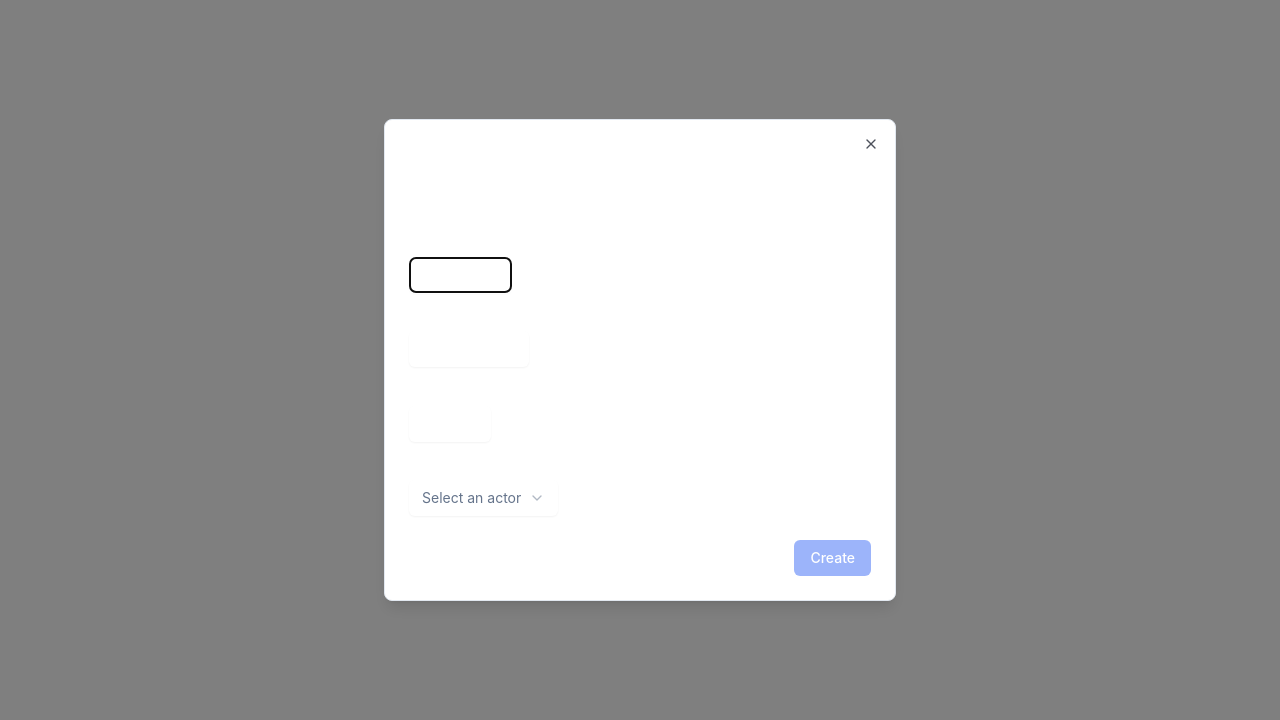
AddActorModal › shows an already-added actor as a disabled but visible option
Click the dropdown labelled "actor" at (484, 498), box [409,480,558,516]
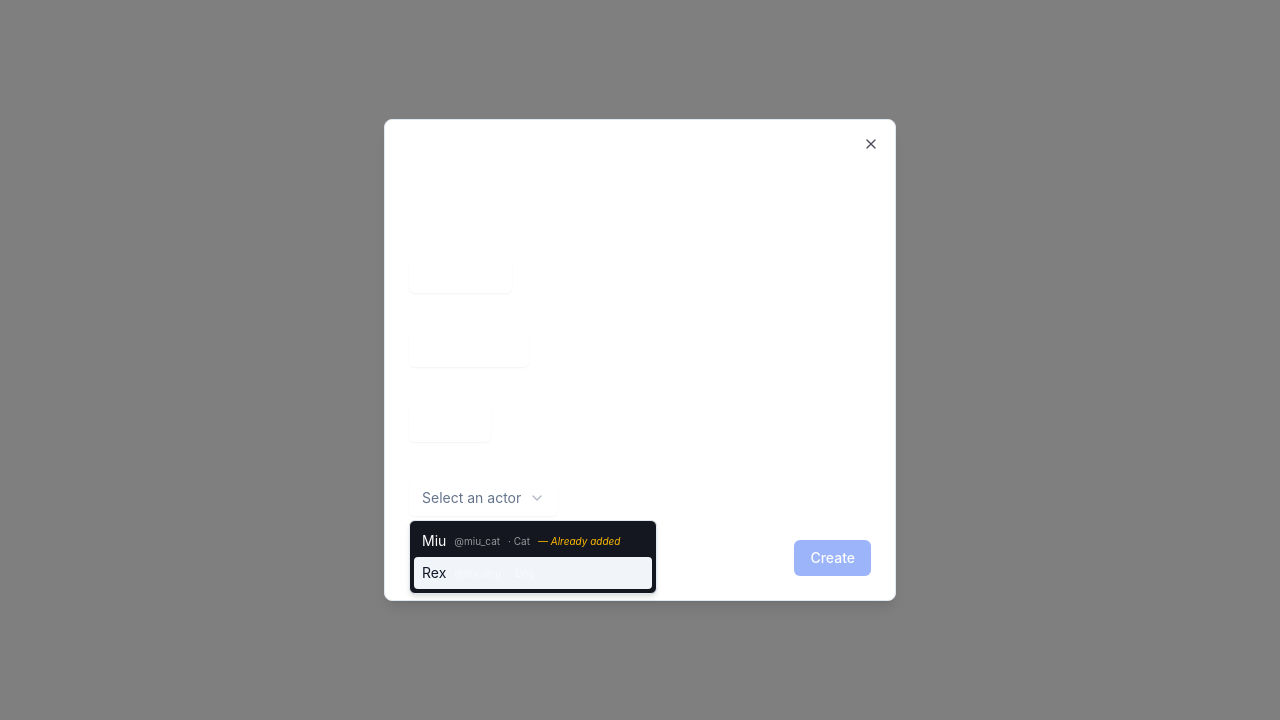
Expected: the option "Miu @miu_cat · Cat — Already added" is shown, [422,532,620,549]
